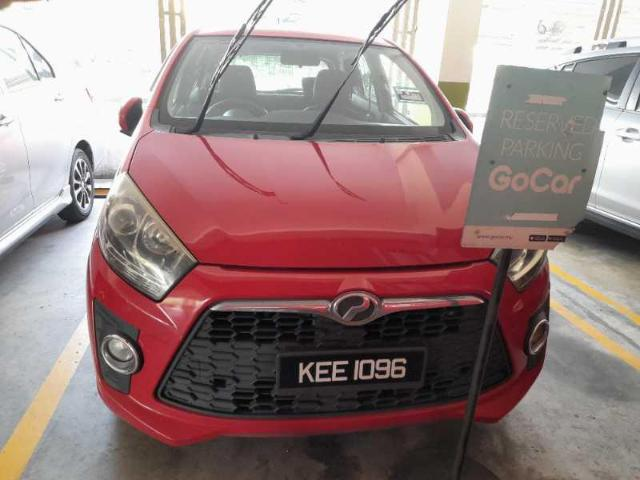License_Plate: (274, 346, 428, 400)
car: (86, 2, 554, 449)
